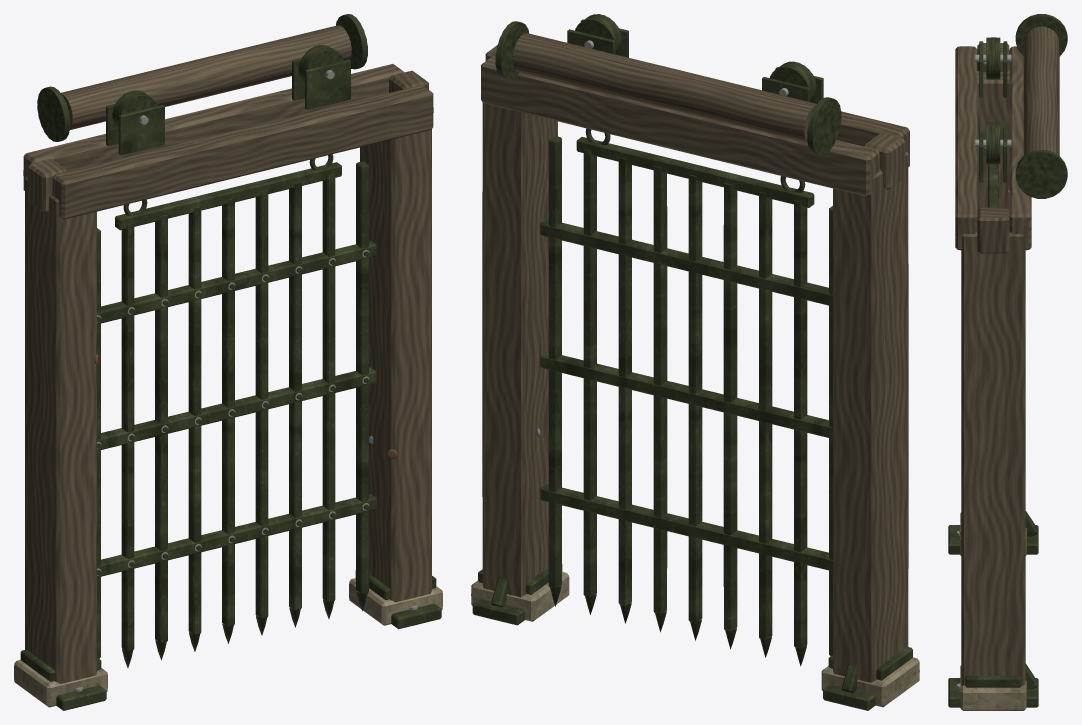
The picture shows the model from 3 angles, left to right: view 1: azimuth 30°, elevation 25°; view 2: azimuth 150°, elevation 25°; view 3: azimuth 270°, elevation 25°; orthographic projection. The views are drawn at different scales.
Visible parts, largest first — view 1: quarter-sawn-timber, olive-painted-field-steel (×2), sandstone-edges, machined-bearing-steel; view 2: quarter-sawn-timber, olive-painted-field-steel (×2), sandstone-edges; view 3: quarter-sawn-timber, olive-painted-field-steel (×2), sandstone-edges, machined-bearing-steel.
Part boxes in pixels (x1,y1,x2,y2): quarter-sawn-timber: (23,25,433,683); olive-painted-field-steel (×2): (20,14,441,710); sandstone-edges: (14,578,442,707); machined-bearing-steel: (97,249,369,575); quarter-sawn-timber: (481,33,909,682); olive-painted-field-steel (×2): (472,14,912,710); sandstone-edges: (471,572,919,707); quarter-sawn-timber: (955,26,1059,685); olive-painted-field-steel (×2): (948,14,1067,707); sandstone-edges: (960,512,1026,710); machined-bearing-steel: (956,54,1011,688).
Size of the model in its own units: 2.13 by 2.96 by 0.595.
Materials: 6 (4 with a texture image).
